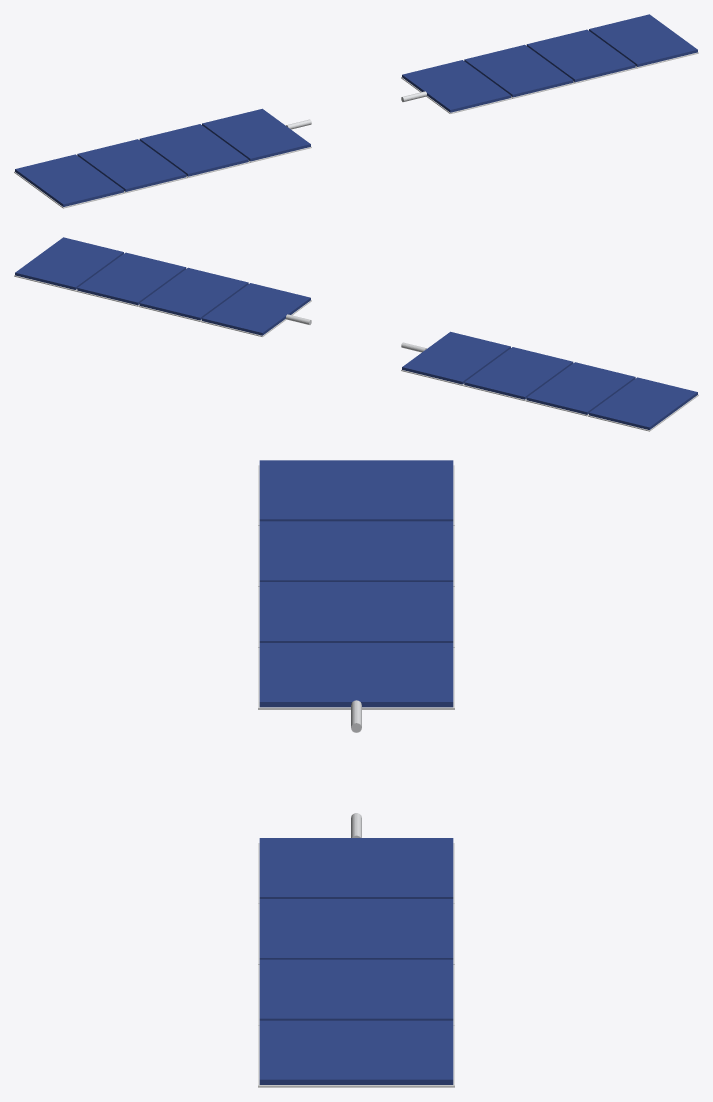
File: pwr_large.fbx
The picture shows the model from 3 angles, top to bottom: view 1: azimuth 30°, elevation 25°; view 2: azimuth 150°, elevation 25°; view 3: azimuth 270°, elevation 25°; orthographic projection. The views are drawn at different scales.
Visible parts, largest first — view 1: pwr_large; view 2: pwr_large; view 3: pwr_large.
Part boxes in pixels (bbox=[...]): pwr_large: bbox=[14, 14, 698, 208]; pwr_large: bbox=[14, 237, 698, 431]; pwr_large: bbox=[258, 460, 454, 1087].
Bounding box in the file's own units: 6.83 × 0.05 × 0.918.
